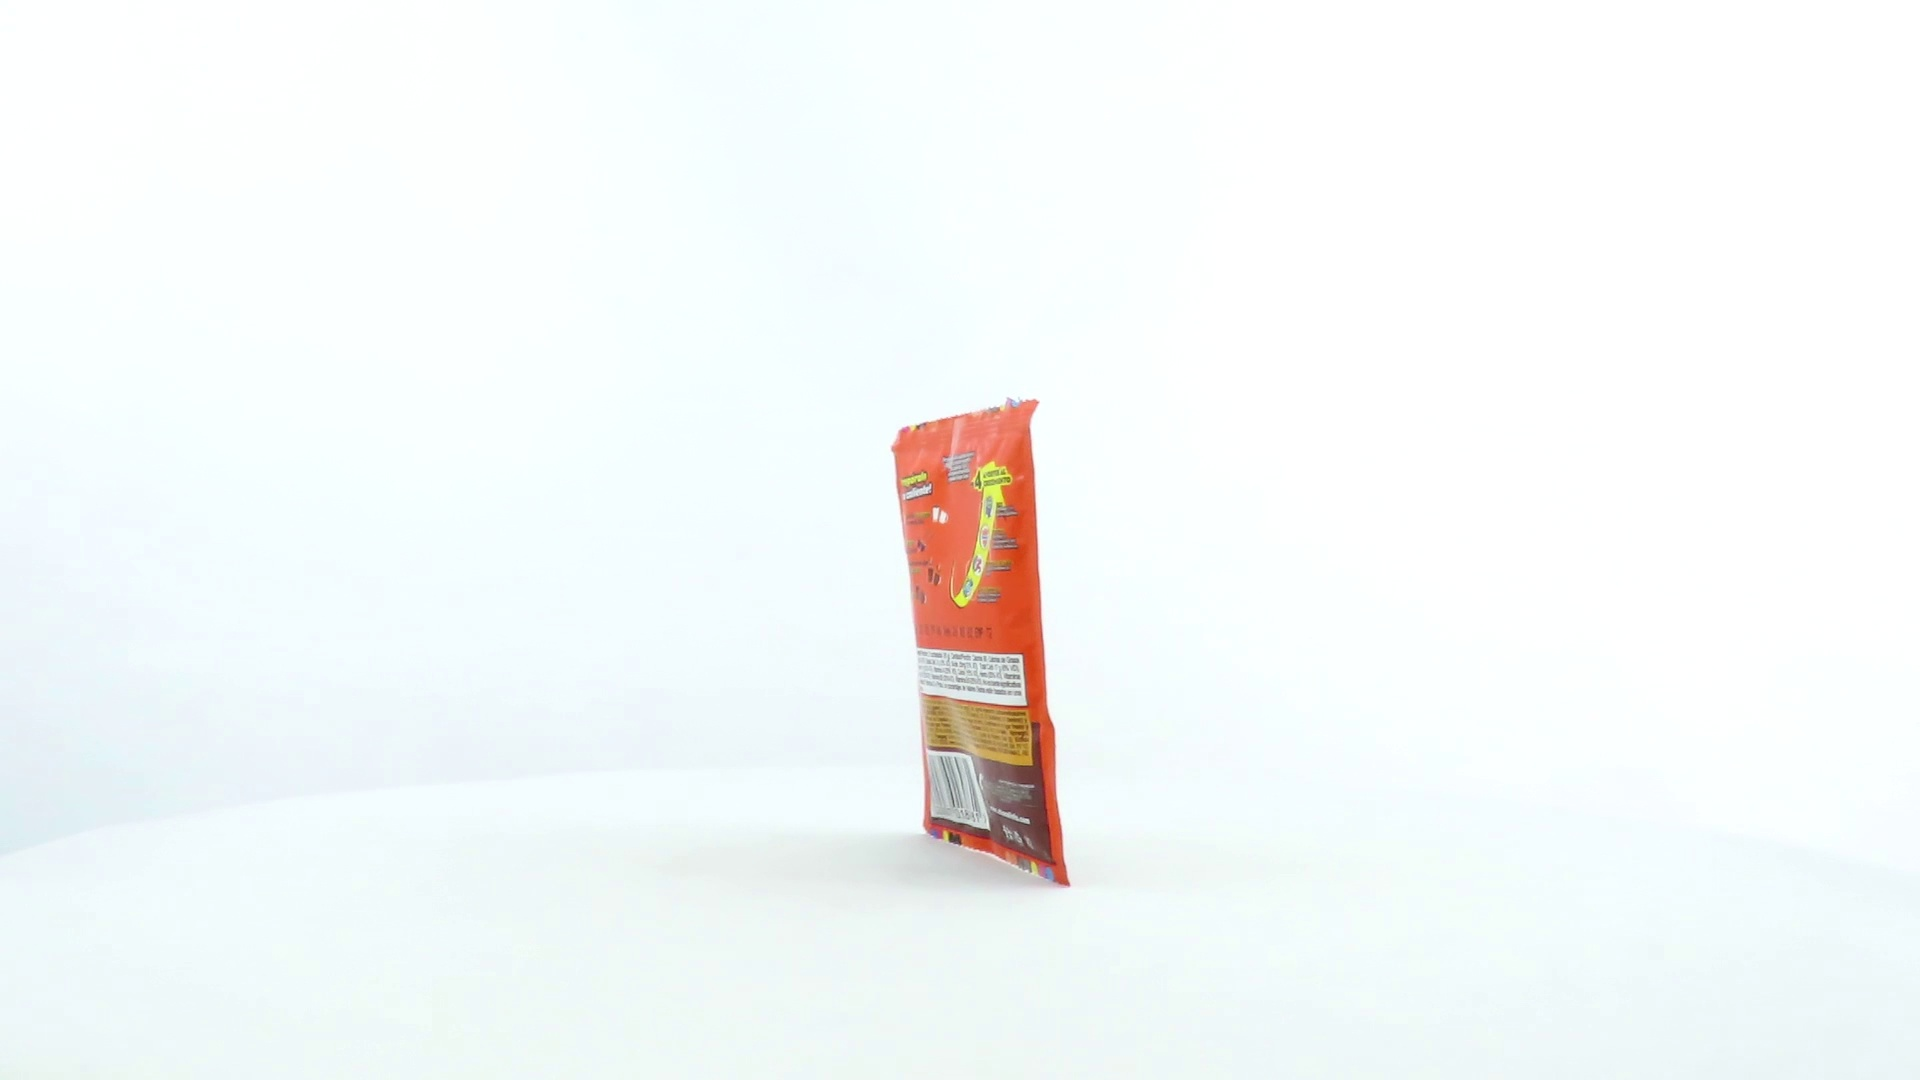COL0170103SOB02000: (886, 392, 1077, 894)
